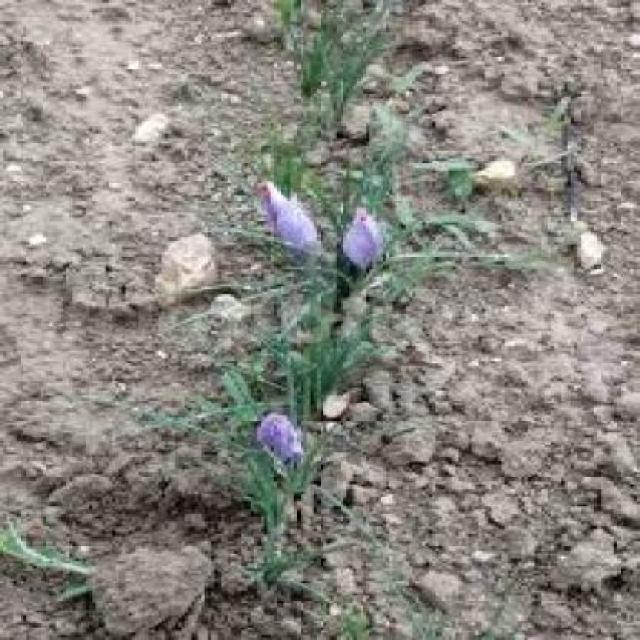saffron closed: (260, 181, 320, 253), (342, 208, 384, 269), (256, 412, 304, 463)
